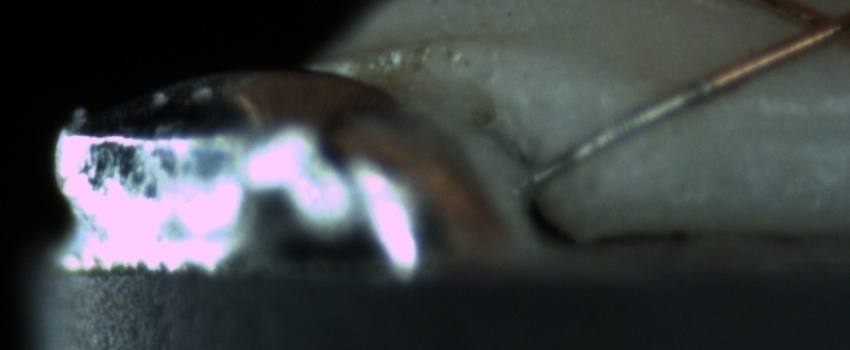CL: (770, 0, 850, 60)
DL: (696, 83, 850, 151)
TS: (525, 79, 710, 191)
